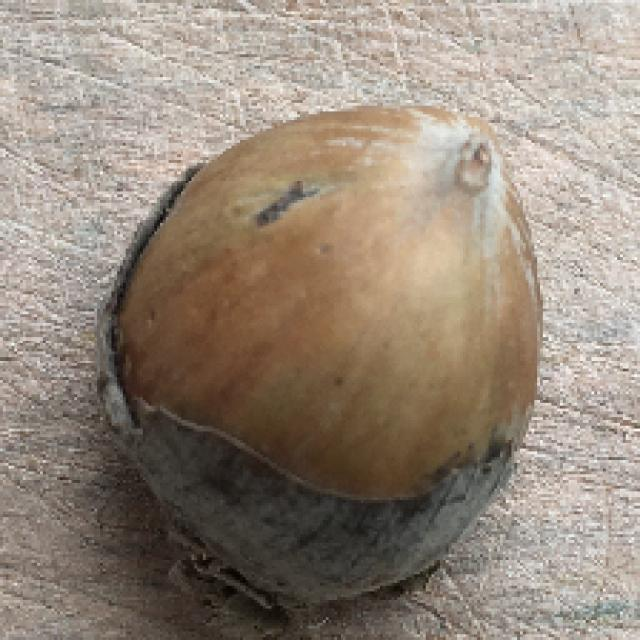damagedHazelnut: (92, 99, 546, 605)
